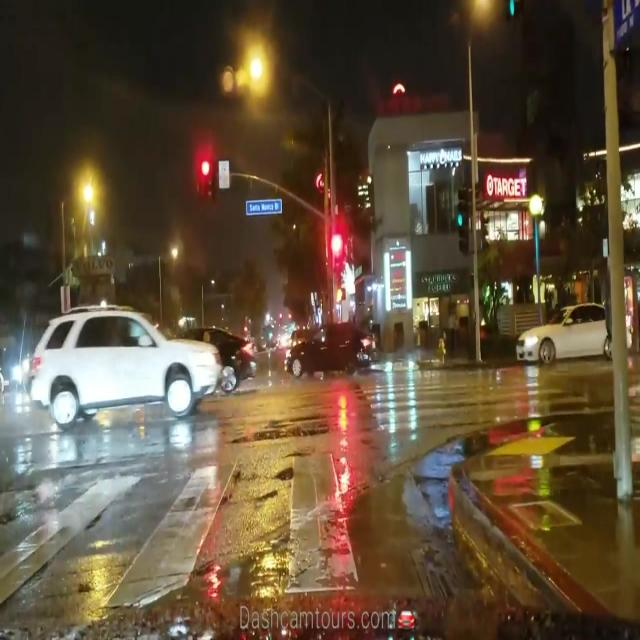Car: (26, 317, 220, 417), (517, 303, 614, 371), (282, 324, 371, 374)
